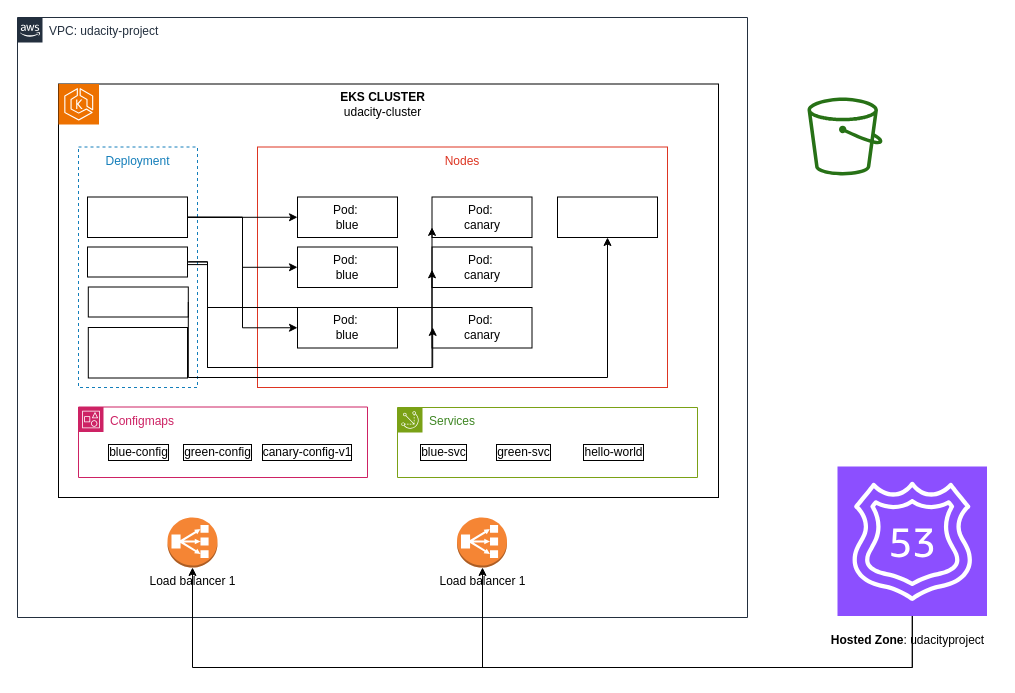
This 1015x693 diagram has some shape labels left out. The shapes that lost their labels are listed below. From the top down, each one's centre as x and y in pixels, then its label:
At (844,136): "Amazon S3 Bucket".
At (137,217): "blue: 3 replicas".
At (607,217): "Pod: hello-world".
At (137,261): "canary: 3 replicas".
At (137,301): "hello-world: 1 replicas".
At (137,352): "bloatware: 17 replicas".
